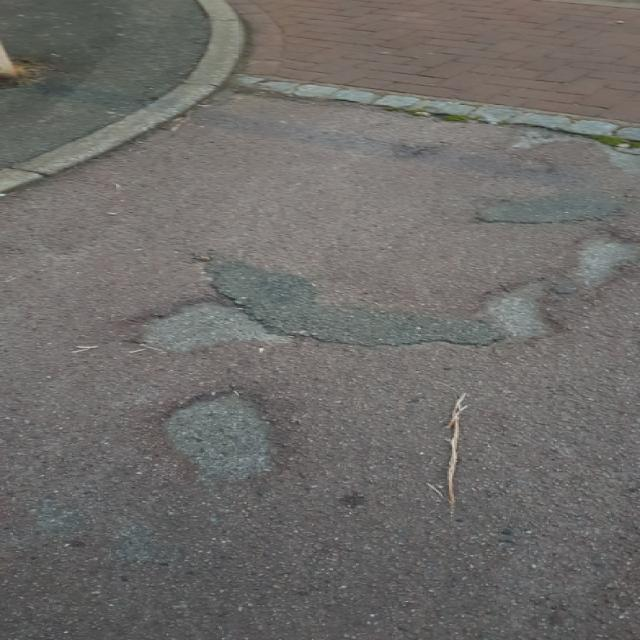pothole: (160, 382, 291, 487), (124, 296, 300, 357), (476, 277, 572, 350), (567, 224, 640, 298)
